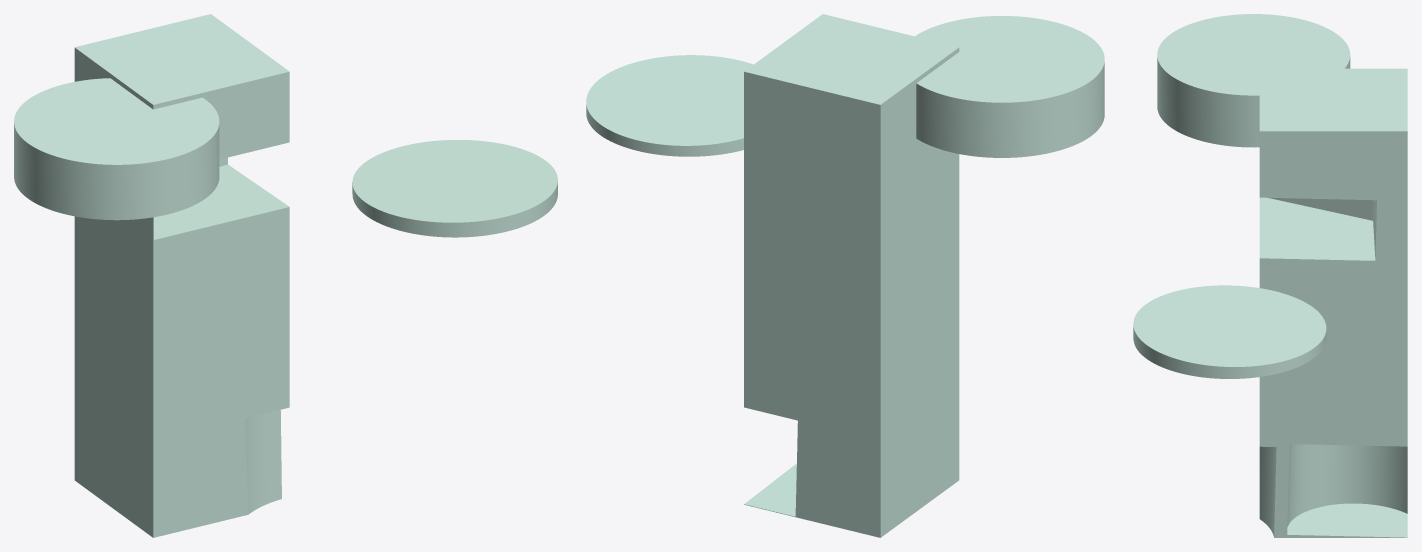
The picture shows the model from 3 angles, left to right: view 1: azimuth 30°, elevation 25°; view 2: azimuth 150°, elevation 25°; view 3: azimuth 270°, elevation 25°; orthographic projection. The views are drawn at different scales.
Visible parts, largest first — view 1: Renderer Node; view 2: Renderer Node; view 3: Renderer Node.
Part boxes in pixels (<box>): Renderer Node: <box>14,14,557,537</box>; Renderer Node: <box>586,14,1104,537</box>; Renderer Node: <box>1133,14,1407,537</box>.
Size of the model in its own units: 0.8939 by 0.7344 by 0.4486.
